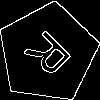R: (23, 28, 81, 86)
